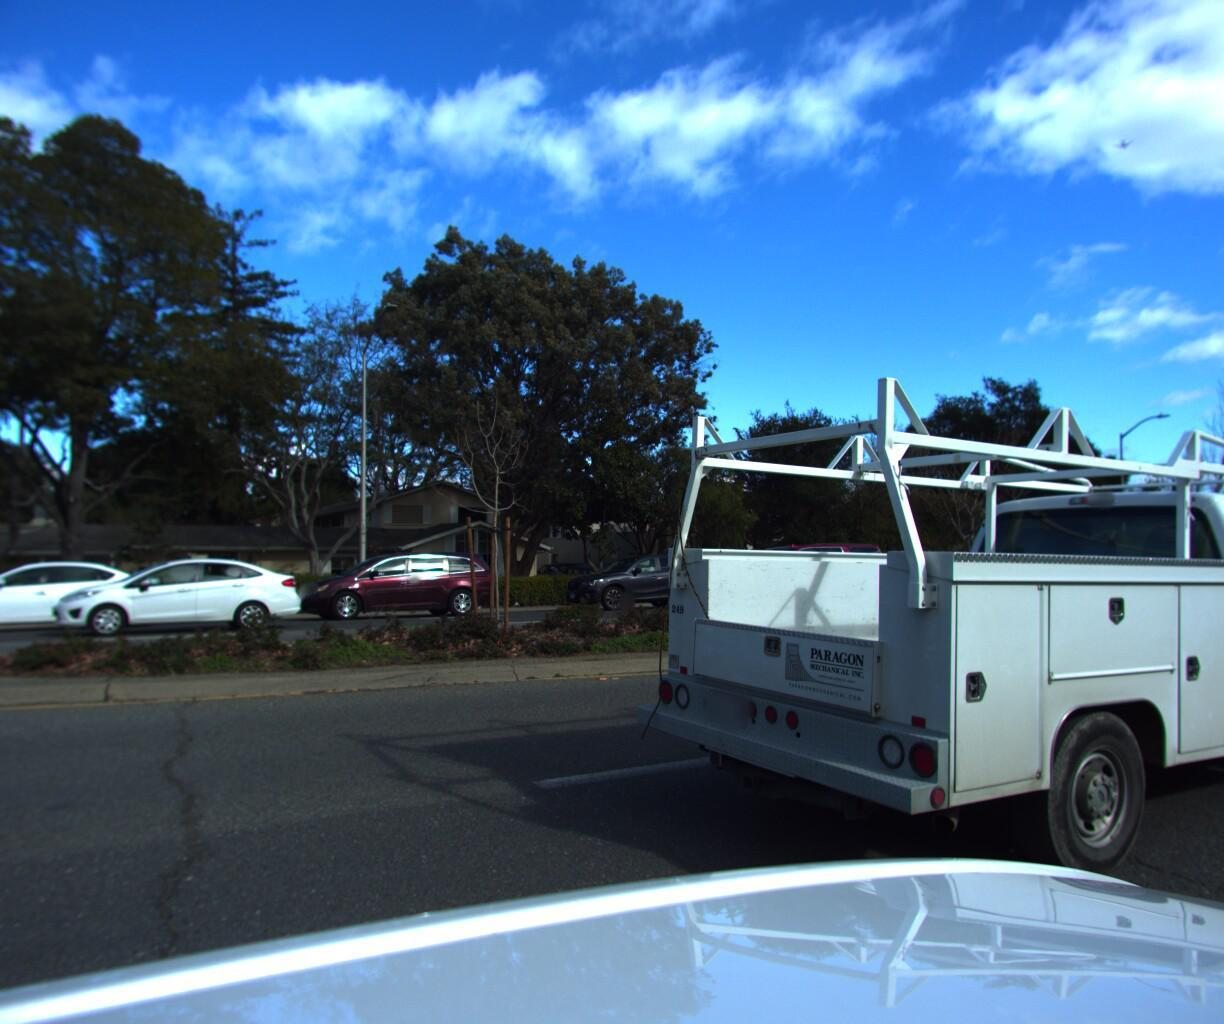car: (605, 321, 1224, 961), (46, 548, 309, 640), (294, 544, 505, 620), (0, 546, 164, 638), (844, 542, 1034, 618), (702, 534, 891, 610), (555, 546, 710, 610), (0, 570, 70, 638)
